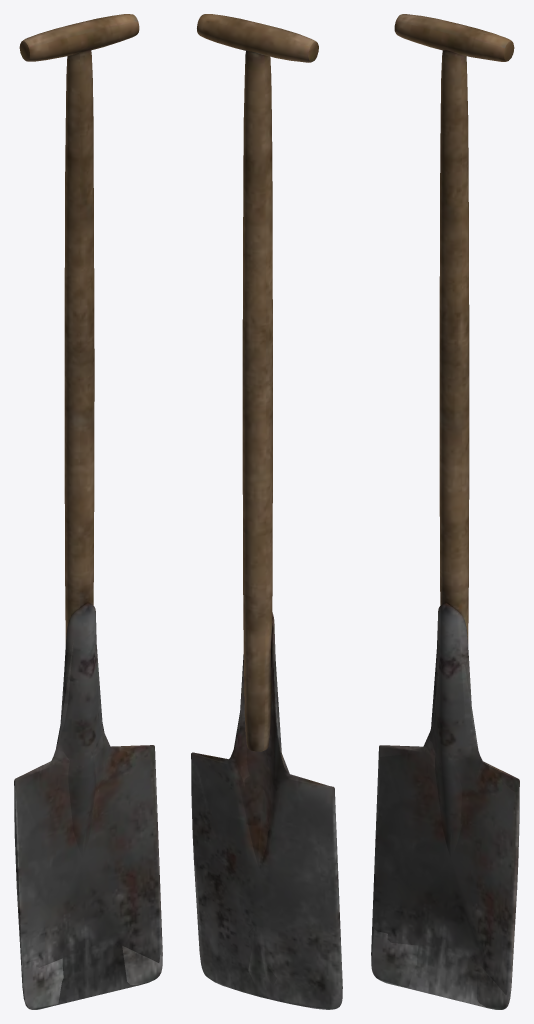
Rendered from rusted_spade_01.glb.
3 views of the same model, side by side, from view 1: azimuth 30°, elevation 25°; view 2: azimuth 150°, elevation 25°; view 3: azimuth 330°, elevation 25° (orthographic). The views are drawn at different scales.
Parts seen in each view (by area): view 1: rusted_spade_01, rusted_spade_01_lo; view 2: rusted_spade_01, rusted_spade_01_lo; view 3: rusted_spade_01_lo, rusted_spade_01.
Boxes of the visible parts, bbox=[...] form: rusted_spade_01: bbox=[14, 14, 162, 1009]; rusted_spade_01_lo: bbox=[14, 606, 162, 1005]; rusted_spade_01: bbox=[191, 14, 342, 1009]; rusted_spade_01_lo: bbox=[191, 612, 342, 1006]; rusted_spade_01_lo: bbox=[371, 603, 519, 1008]; rusted_spade_01: bbox=[371, 14, 519, 1009].
Bounding box in the file's own units: 0.1682 × 1.1 × 0.0454.
Materials: 1 (1 with a texture image).
